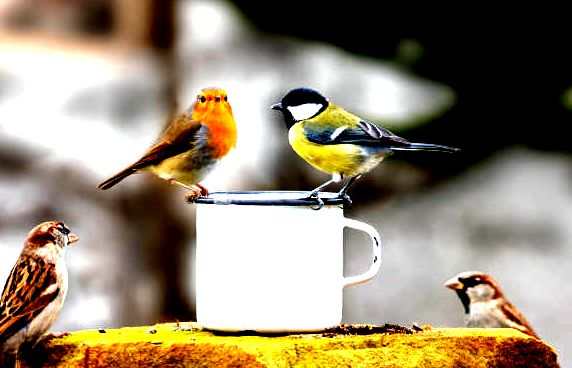Bird: (266, 83, 460, 210), (97, 84, 237, 201), (2, 219, 78, 351), (444, 267, 540, 336)
